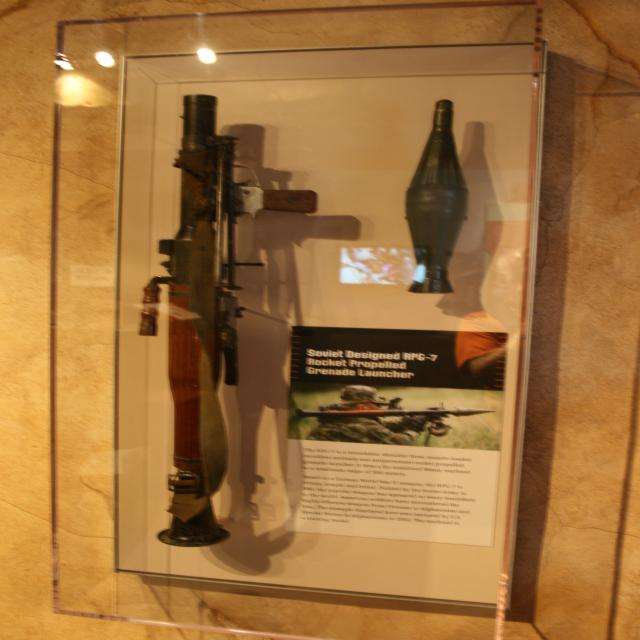Gun: (146, 95, 266, 582)
